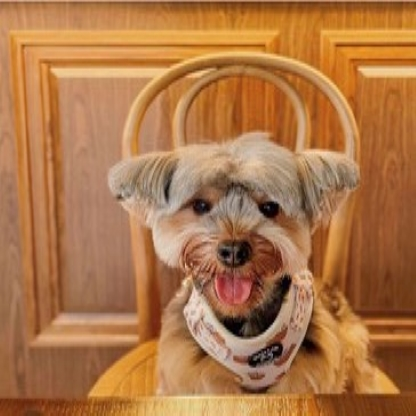yorkshire: (106, 131, 377, 395)
